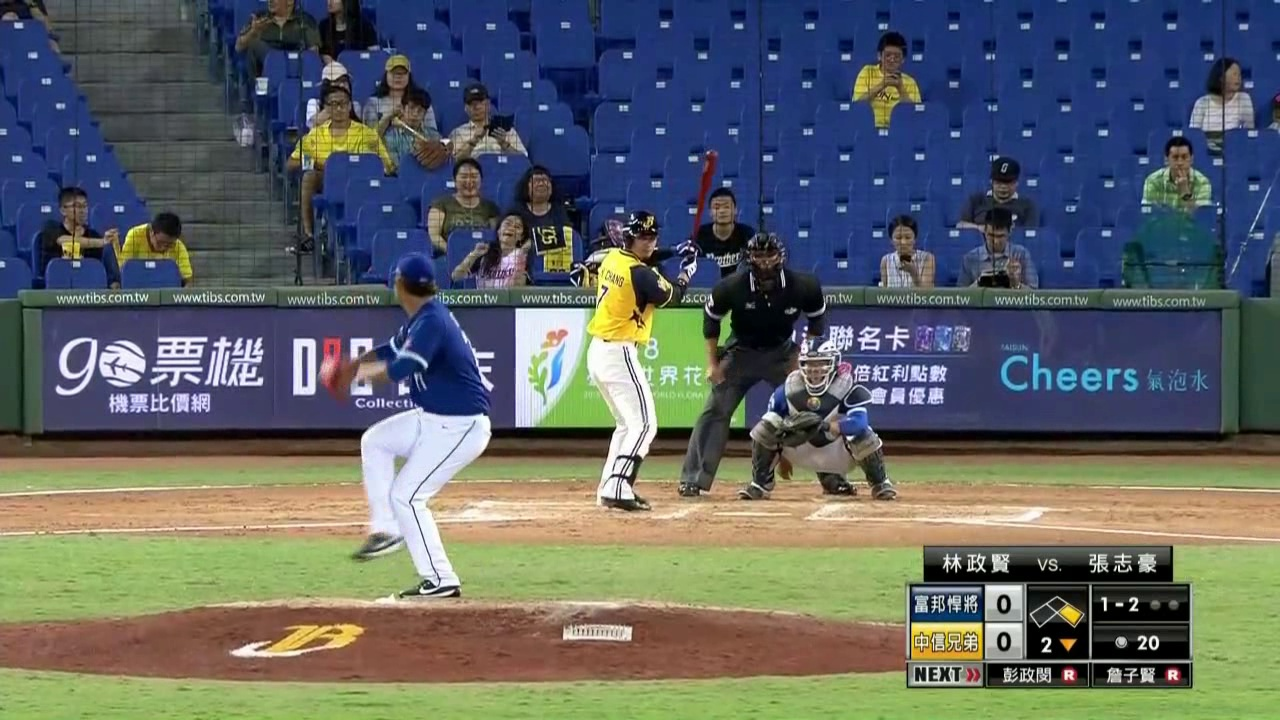ball: (315, 356, 339, 380)
base: (1027, 590, 1086, 629)
bat: (686, 146, 721, 250)
out: (1146, 591, 1184, 615)
score1: (987, 586, 1021, 619)
score2: (987, 624, 1022, 656)
session: (1028, 632, 1086, 658)
strikeball: (1093, 591, 1144, 616)
total: (1095, 629, 1189, 658)
